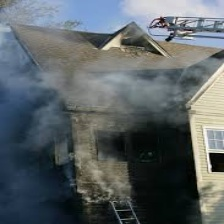smoke: (5, 48, 91, 210)
